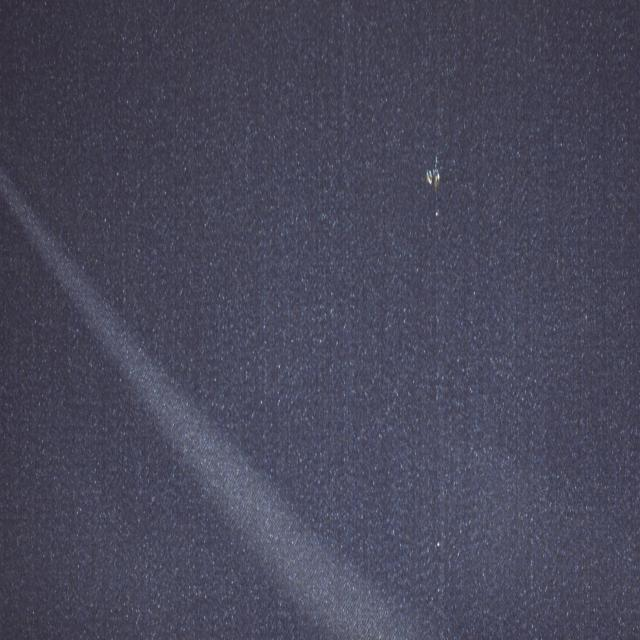Knot: (426, 156, 441, 192)
Stain: (0, 168, 412, 640)
